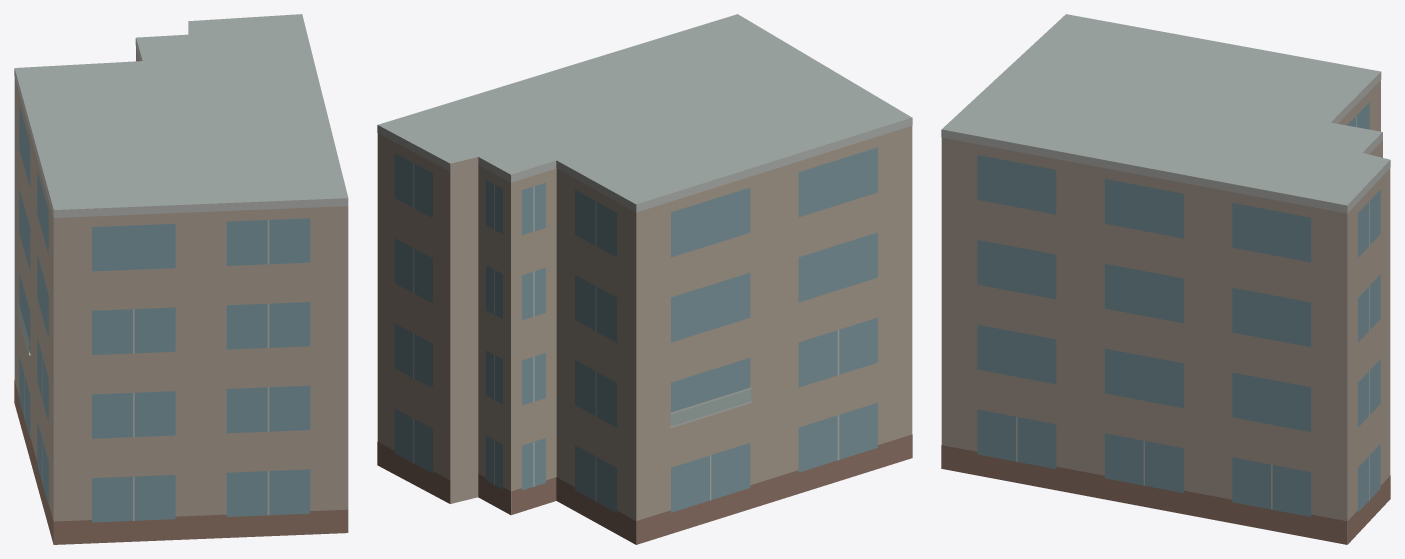
Rendered from survey-upis-33044263.glb.
3 renders of one model, left to right at view 1: azimuth 30°, elevation 25°; view 2: azimuth 150°, elevation 25°; view 3: azimuth 270°, elevation 25°, orthographic.
Parts seen in each view (by area): view 1: survey-upis-33044263.tmp; view 2: survey-upis-33044263.tmp; view 3: survey-upis-33044263.tmp.
Boxes of the visible parts, box(x1,y1,x2,y2) form: survey-upis-33044263.tmp: box(14, 14, 348, 544); survey-upis-33044263.tmp: box(377, 14, 912, 544); survey-upis-33044263.tmp: box(941, 14, 1390, 544).
Bounding box in the file's own units: 12.48 × 10.3 × 12.36.
